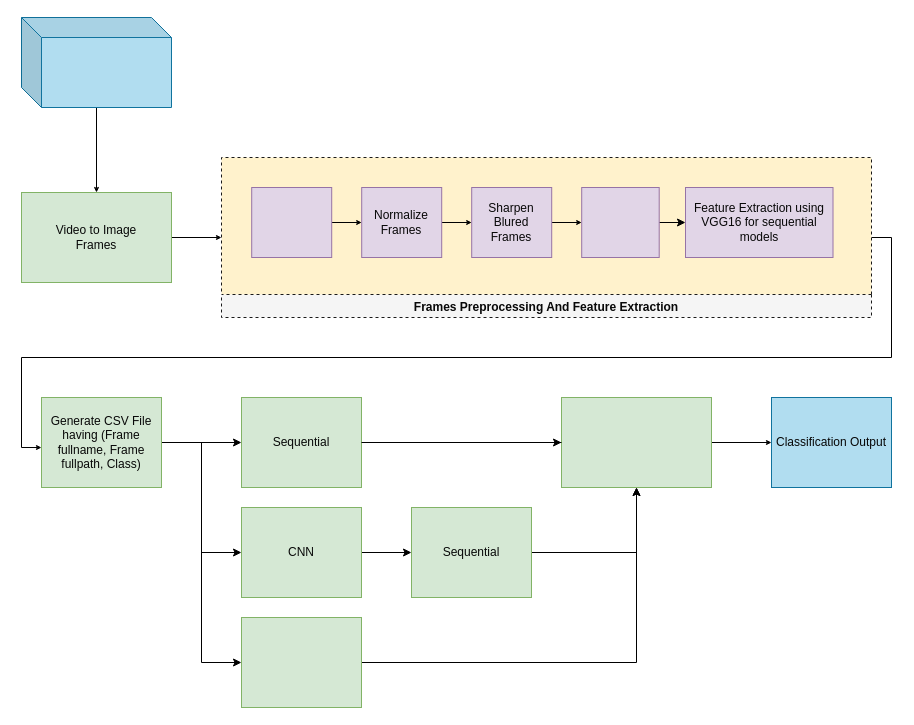
The diagram is 914 pixels wide and 725 high, and some of its shapes have lost their labels. Here are the shapes that lost their labels. From the top down, the box of each, then its label:
(20, 16, 172, 108): Input Video File Folder Dataset
(251, 186, 332, 258): Resize Frames
(581, 186, 659, 258): Duplicate Frame Detection
(560, 396, 712, 488): Apply Model for test video to detect the event
(240, 616, 362, 708): LSTM
